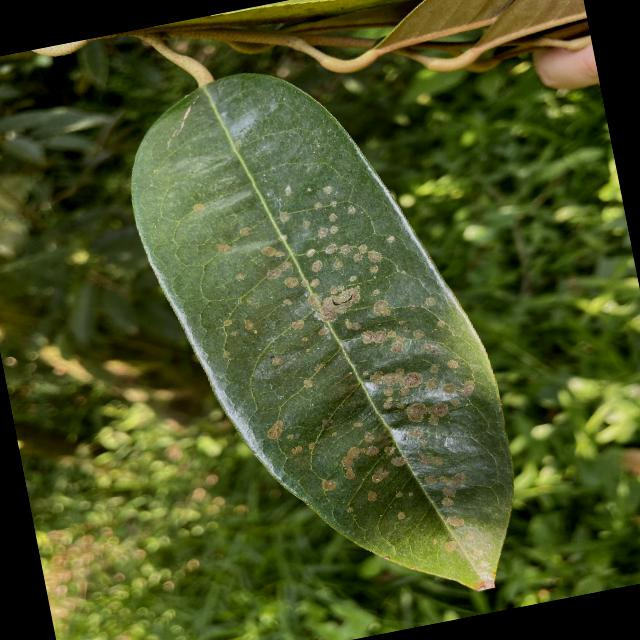Algal Leaf Spot: (100, 20, 552, 639)
